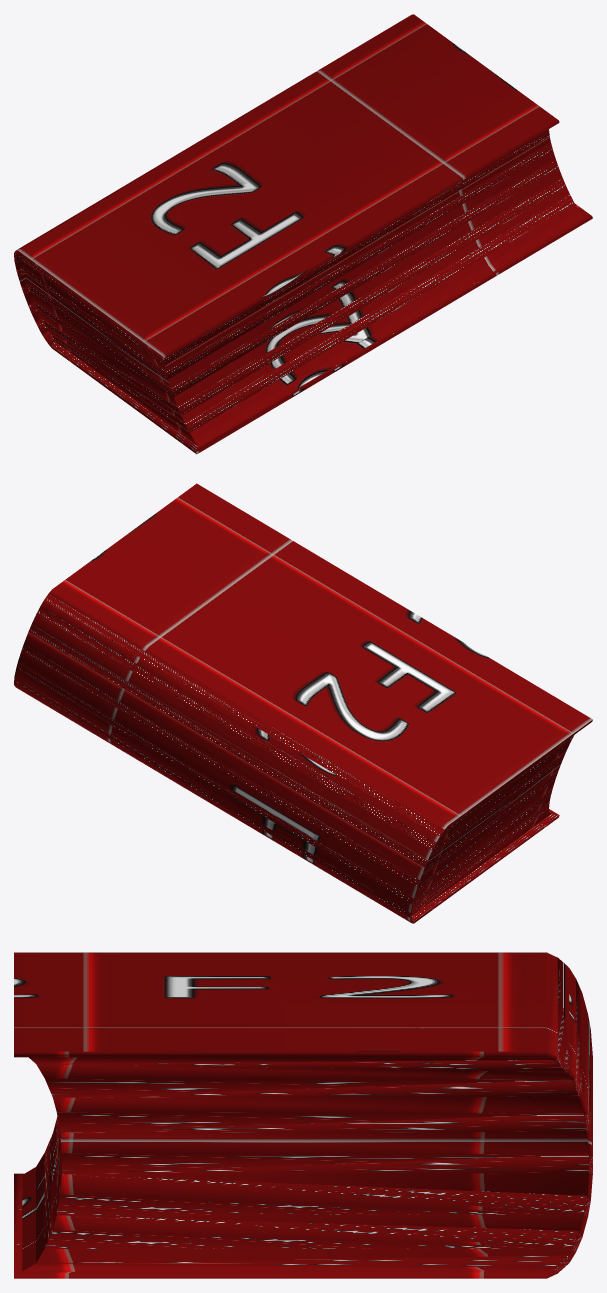
Rendered from KnjigaTwo.fbx.
The picture shows the model from 3 angles, top to bottom: view 1: azimuth 30°, elevation 25°; view 2: azimuth 150°, elevation 25°; view 3: azimuth 270°, elevation 25°; orthographic projection. The views are drawn at different scales.
Visible parts, largest first — view 1: book; view 2: book; view 3: book.
Part boxes in pixels (left/top/right/bottom): book: left=14, top=14, right=592, bottom=454; book: left=14, top=483, right=592, bottom=923; book: left=14, top=952, right=592, bottom=1278.
Size of the model in its own units: 16.43 by 8.97 by 10.39.
1 material, 1 textured.
